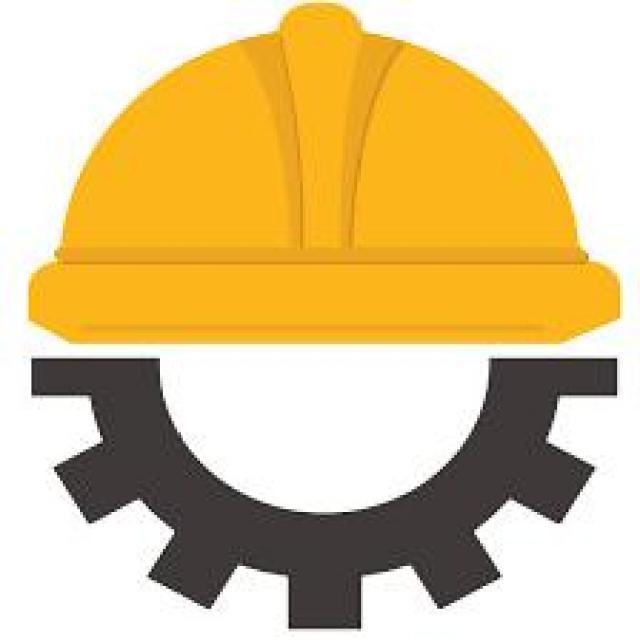safety_helmet: (8, 13, 602, 361)
